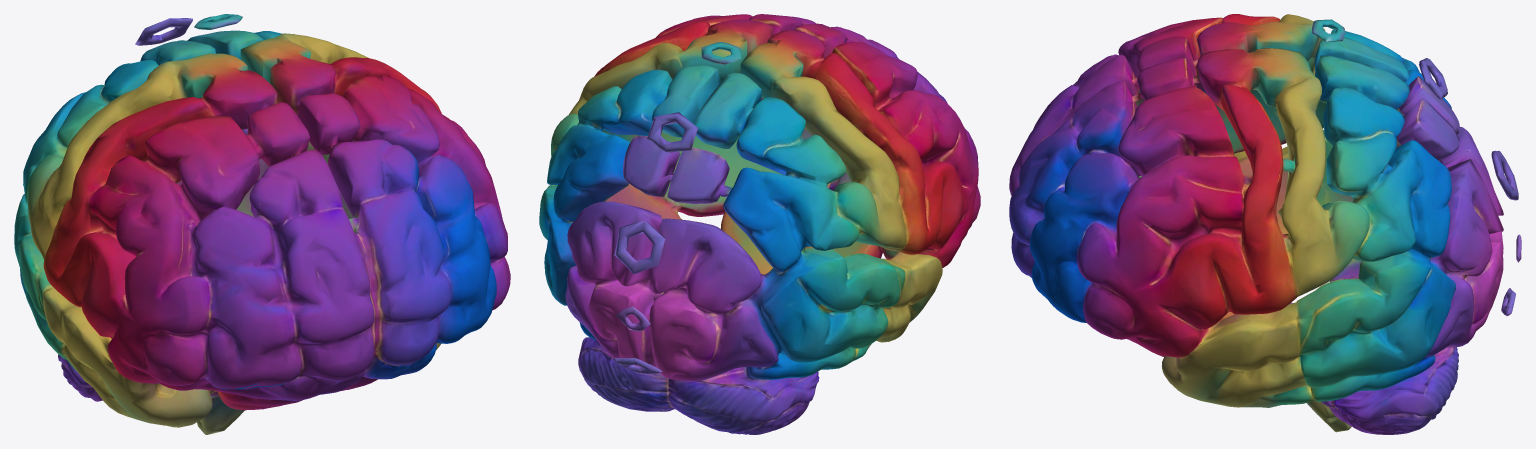
The model's file is brains.glb.
3 views of the same model, side by side, from view 1: azimuth 30°, elevation 25°; view 2: azimuth 150°, elevation 25°; view 3: azimuth 270°, elevation 25° (orthographic). The views are drawn at different scales.
Parts seen in each view (by area): view 1: tripo_node_7f5d0117-009a-4979-9047-2cf9ddfe0577; view 2: tripo_node_7f5d0117-009a-4979-9047-2cf9ddfe0577; view 3: tripo_node_7f5d0117-009a-4979-9047-2cf9ddfe0577.
Part boxes in pixels (x1,y1,x2,y2): tripo_node_7f5d0117-009a-4979-9047-2cf9ddfe0577: [14, 14, 510, 434]; tripo_node_7f5d0117-009a-4979-9047-2cf9ddfe0577: [539, 14, 980, 434]; tripo_node_7f5d0117-009a-4979-9047-2cf9ddfe0577: [1009, 14, 1521, 434].
Bounding box in the file's own units: 0.8639 × 0.8668 × 0.9982.
1 material, 1 textured.
